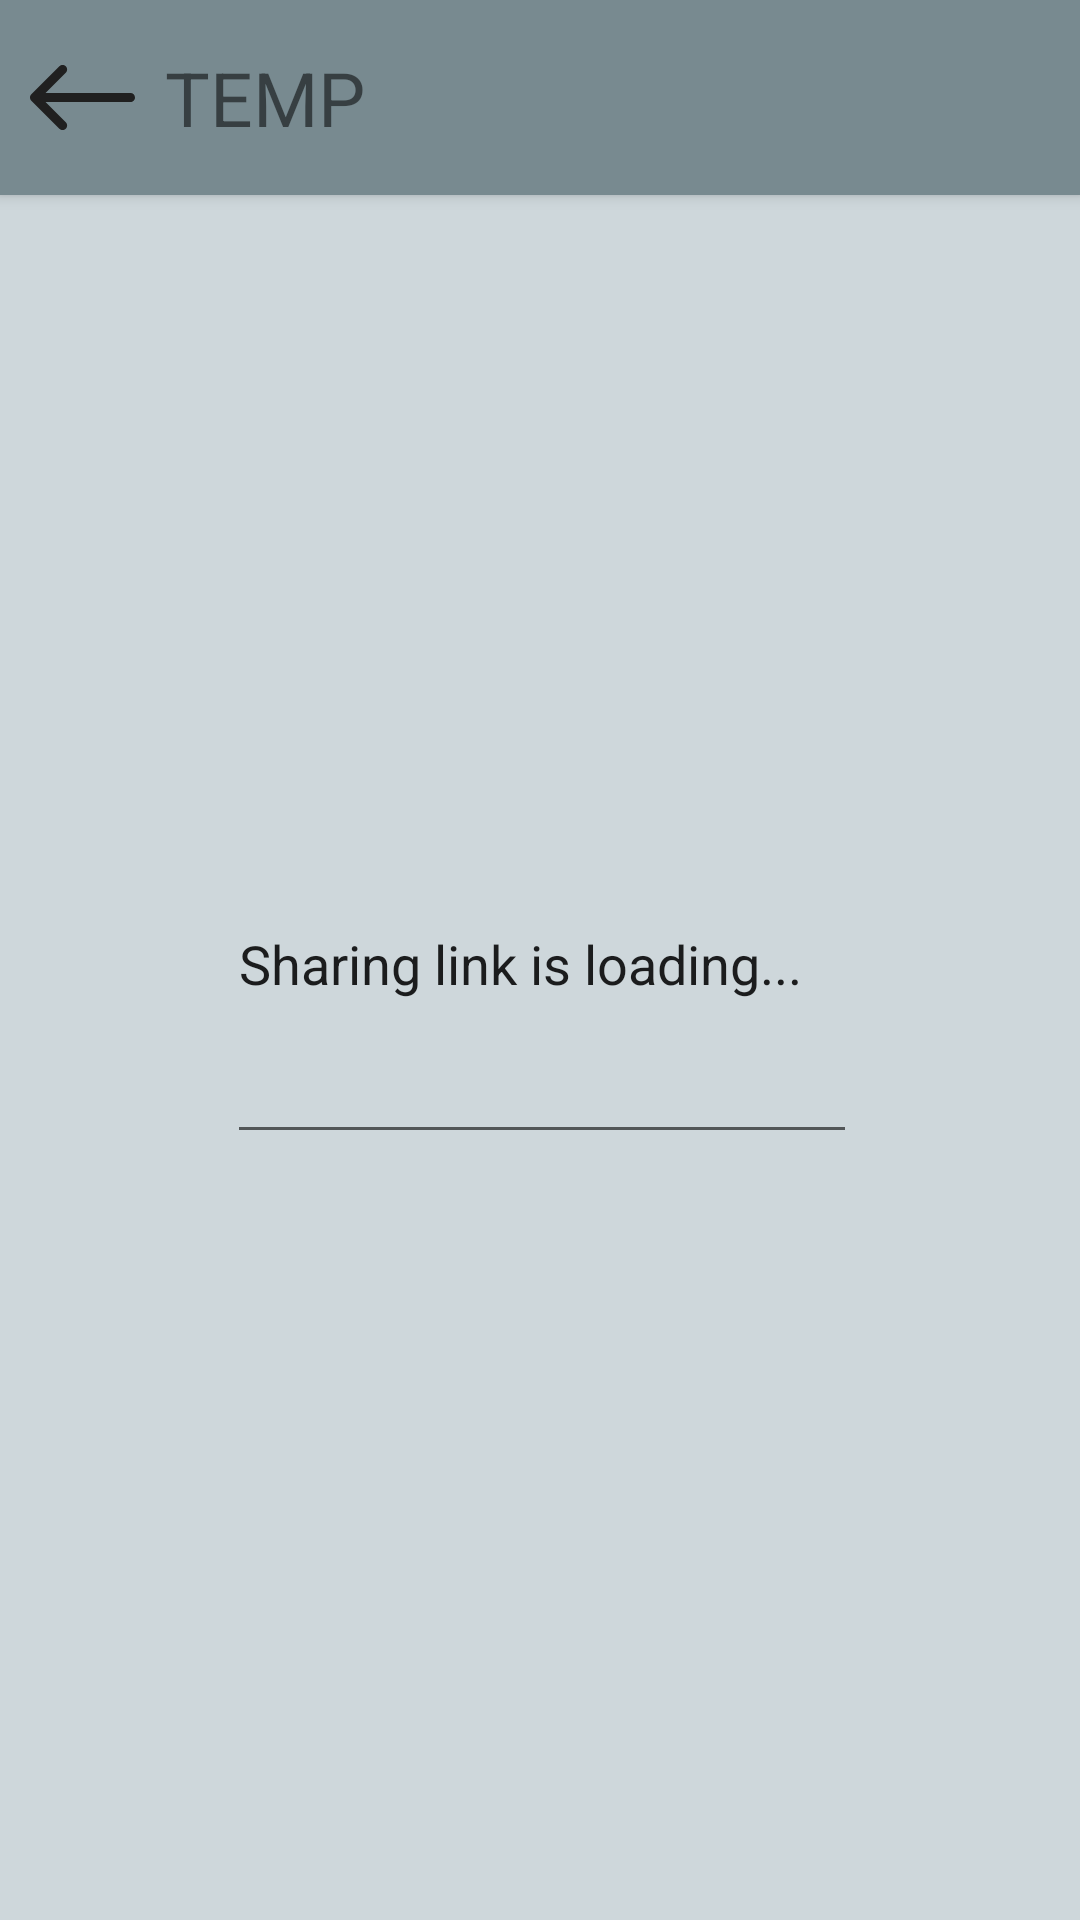

Icon bounding boxes for this 1080px x 1920px phone screenshot, format [left=x1, top=y1, right=x2, bottom=y2]:
back arrow: [left=30, top=65, right=135, bottom=130]
